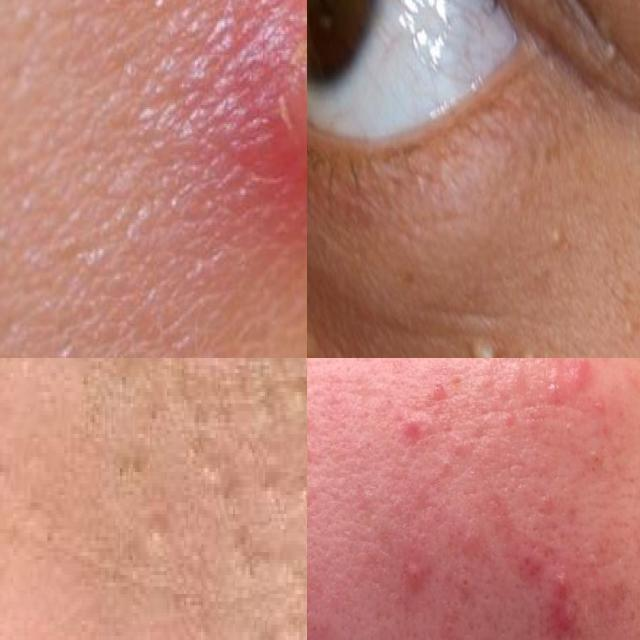comedone: (224, 502, 307, 594), (232, 358, 307, 449), (135, 487, 199, 579), (0, 449, 17, 582), (111, 442, 135, 502)
milium: (606, 285, 640, 358), (602, 28, 634, 103), (546, 214, 576, 267), (458, 333, 513, 358), (517, 328, 547, 358)
papule: (546, 575, 596, 640), (402, 552, 441, 618), (563, 358, 609, 394), (451, 565, 485, 609), (512, 561, 552, 596), (425, 446, 455, 489)
